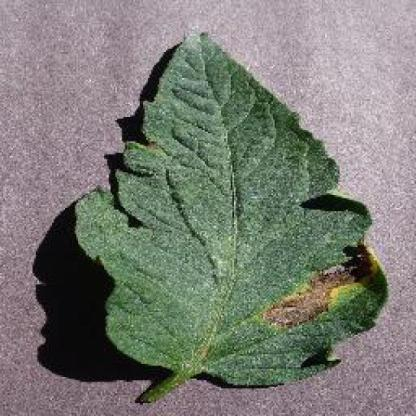Tomato_Blight: (74, 33, 390, 398)
